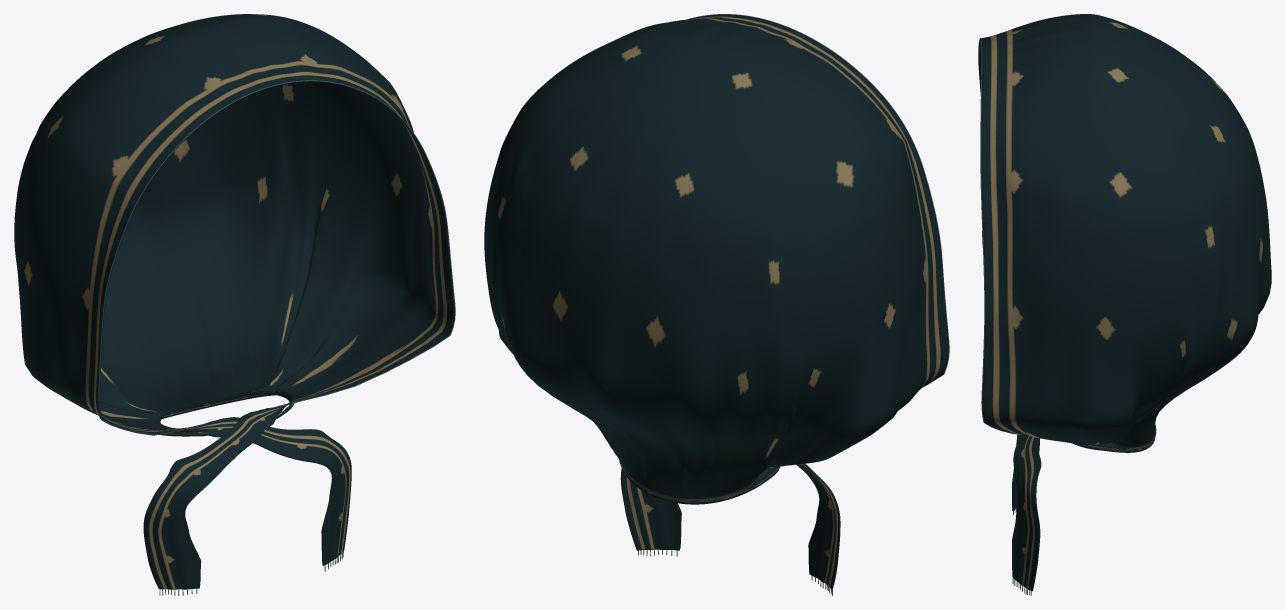
File: Masculine-taper-tshirt-pashmina249-headgear.glb
3 views of the same model, side by side, from view 1: azimuth 30°, elevation 25°; view 2: azimuth 150°, elevation 25°; view 3: azimuth 270°, elevation 25° (orthographic). The views are drawn at different scales.
Parts seen in each view (by area): view 1: 226 headgear / Headwear / continuous woven pashmina239, 226 headgear / Headwear / face edge239; view 2: 226 headgear / Headwear / continuous woven pashmina239, 226 headgear / Headwear / face edge239; view 3: 226 headgear / Headwear / continuous woven pashmina239, 226 headgear / Headwear / face edge239.
Boxes of the visible parts, x1,y1,x2,y2 form: 226 headgear / Headwear / continuous woven pashmina239: (14,14,454,589); 226 headgear / Headwear / face edge239: (98,80,455,435); 226 headgear / Headwear / continuous woven pashmina239: (484,14,948,589); 226 headgear / Headwear / face edge239: (687,14,949,387); 226 headgear / Headwear / continuous woven pashmina239: (978,14,1271,591); 226 headgear / Headwear / face edge239: (978,38,1016,434).
Bounding box in the file's own units: 1.03 × 1.41 × 0.7255.
Materials: 3 (1 with a texture image).
